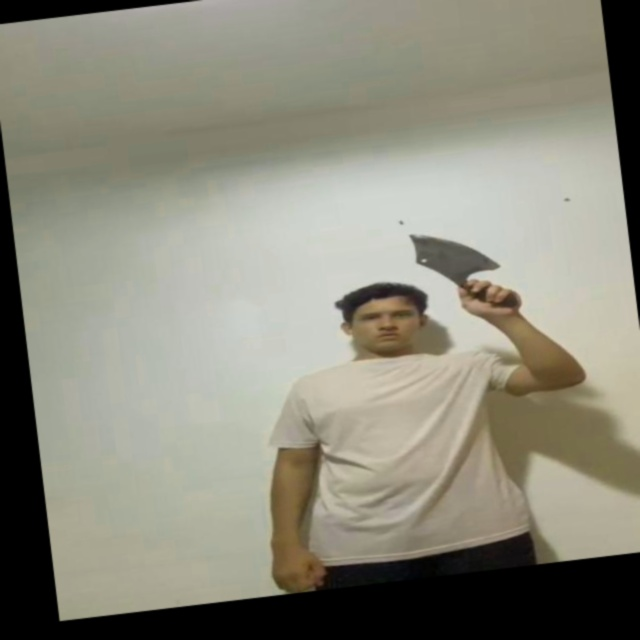Sharp-Object: (409, 227, 495, 281)
